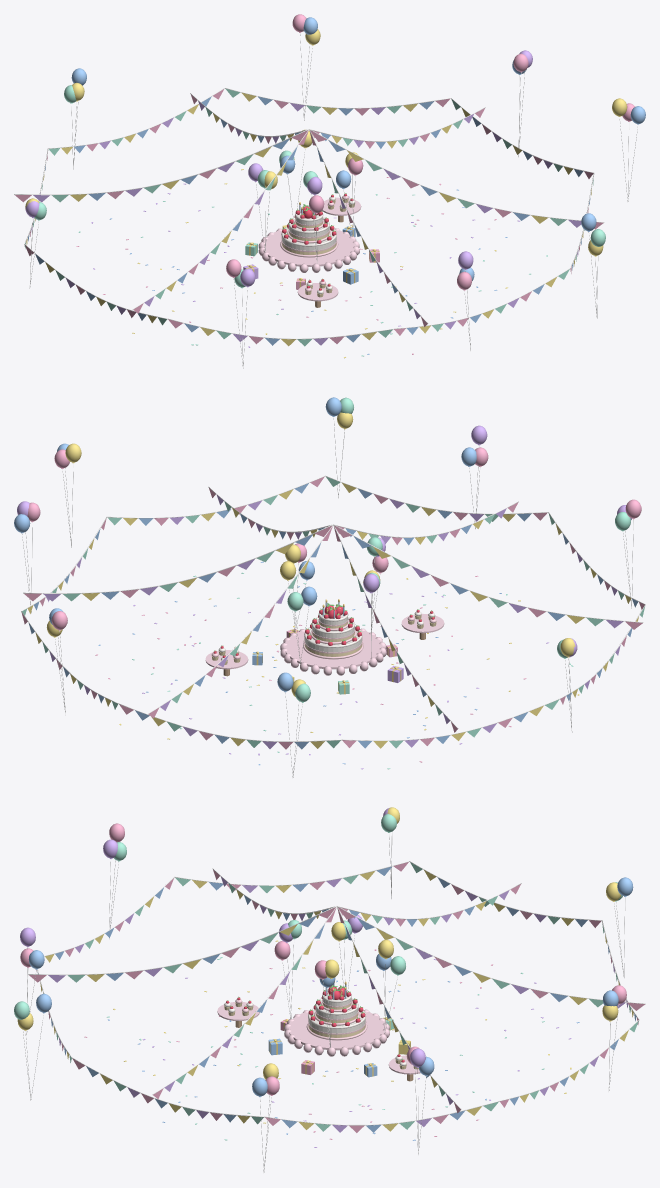
The model's file is Party.fbx.
The picture shows the model from 3 angles, top to bottom: view 1: azimuth 30°, elevation 25°; view 2: azimuth 150°, elevation 25°; view 3: azimuth 270°, elevation 25°; orthographic projection. The views are drawn at different scales.
Visible parts, largest first — view 1: Party_Bunting, Party_Cake; view 2: Party_Bunting, Party_Cake; view 3: Party_Bunting, Party_Cake.
Part boxes in pixels (x1,y1,x2,y2): Party_Bunting: (14, 88, 604, 346); Party_Cake: (76, 159, 547, 358); Party_Bunting: (21, 475, 645, 749); Party_Cake: (95, 561, 579, 769); Party_Bunting: (28, 861, 645, 1132); Party_Cake: (84, 940, 579, 1147).
Size of what is drawn, in the model's own units: 31.55 by 7.27 by 29.68.
